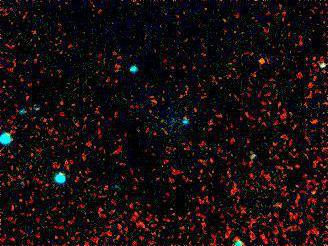star: (246, 46, 276, 76)
